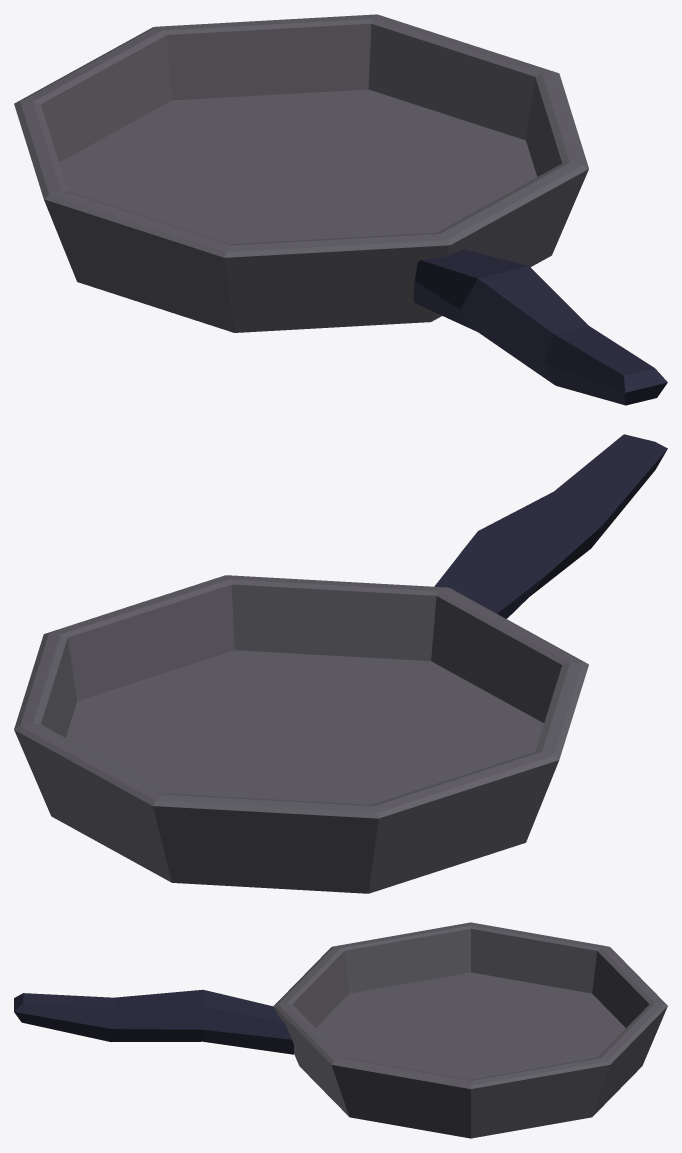
The model's file is FryingPan.fbx.
The picture shows the model from 3 angles, top to bottom: view 1: azimuth 30°, elevation 25°; view 2: azimuth 150°, elevation 25°; view 3: azimuth 270°, elevation 25°; orthographic projection. The views are drawn at different scales.
Parts seen in each view (by area): view 1: Cylinder, Cube; view 2: Cylinder, Cube; view 3: Cylinder, Cube.
Part boxes in pixels (x1,y1,x2,y2): Cylinder: (14,14,588,332); Cube: (413,249,667,405); Cylinder: (14,575,588,893); Cube: (434,434,667,618); Cylinder: (274,922,667,1138); Cube: (14,989,293,1054).
Bounding box in the file's own units: 99.71 × 20.16 × 165.
